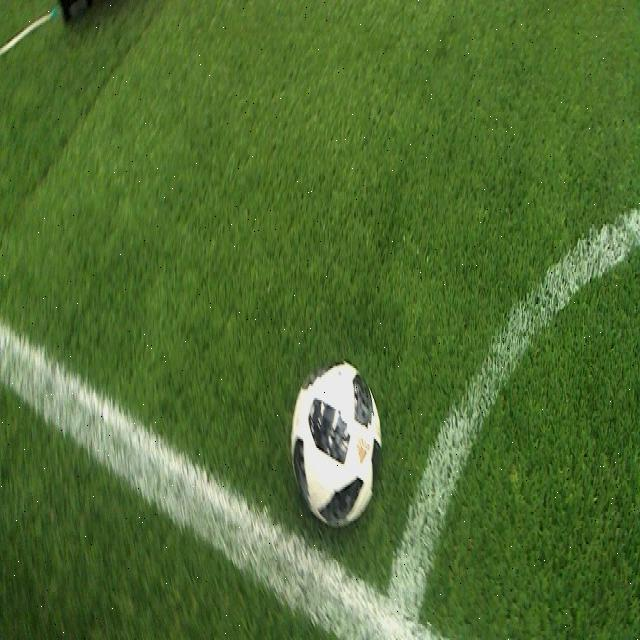ball: (288, 359, 384, 530)
